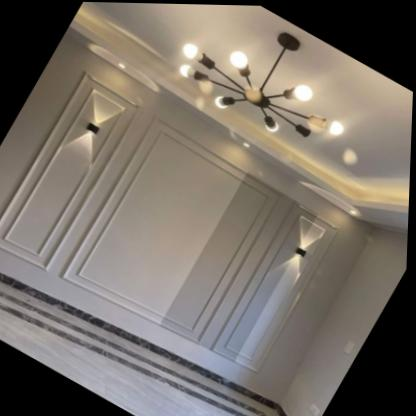Ceramic floor: (0, 272, 291, 416)
Futec frame: (0, 62, 357, 394)
